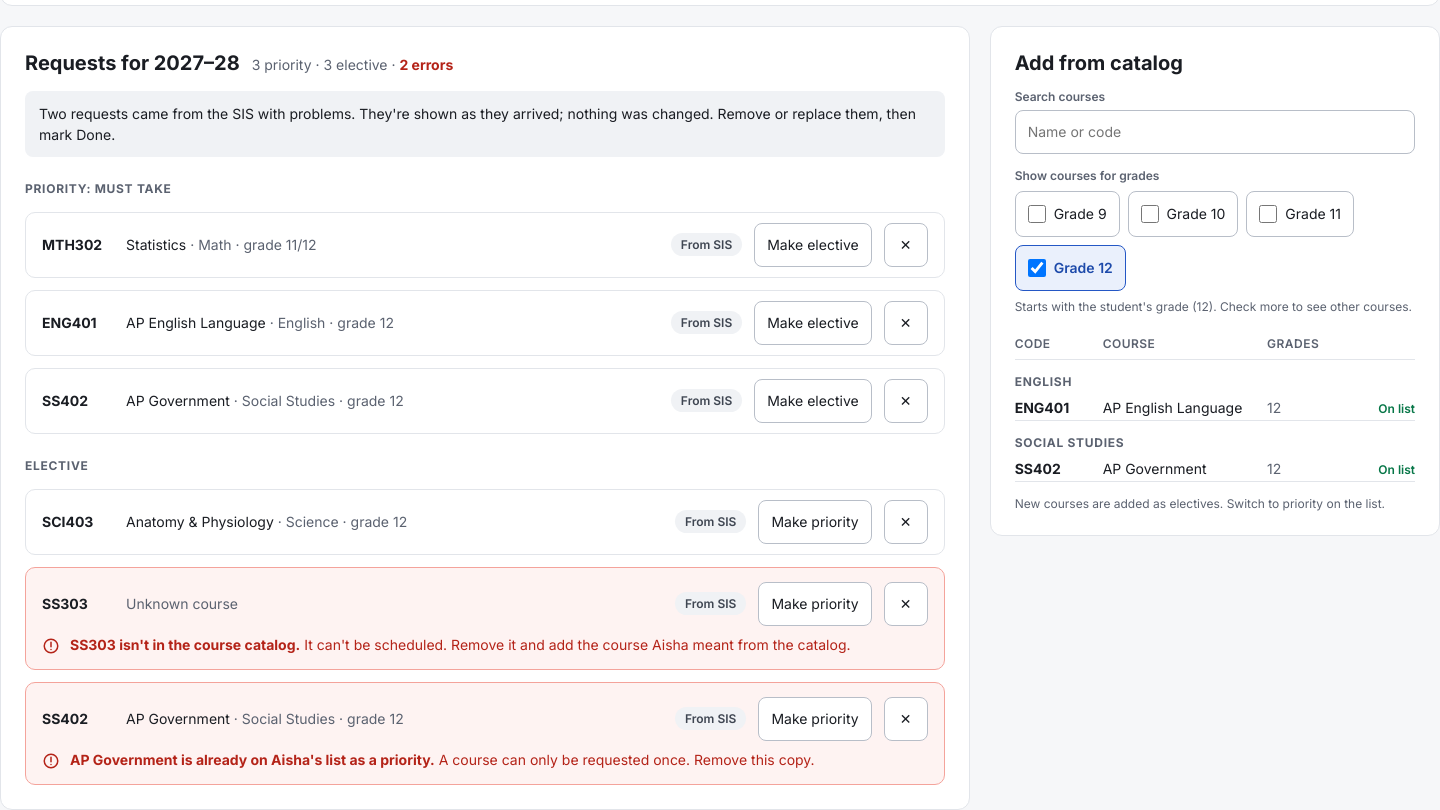
it: a failed edit shows the server's message and keeps the page
The image size is (1440, 810).
(page scrolled)
Step 1. Click the button named "Remove SS303" → (906, 604), box [884, 582, 928, 626]
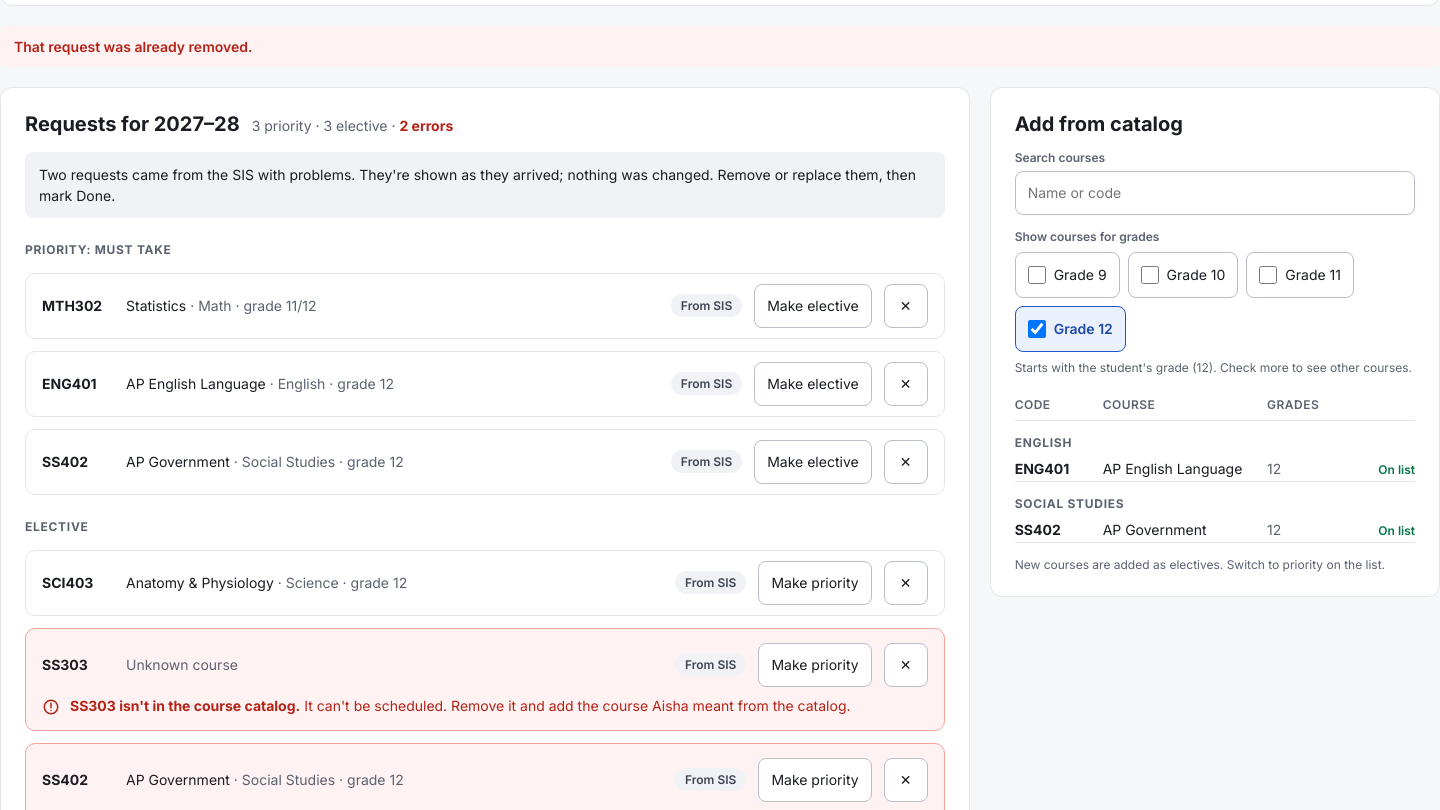
Result: the message reads "That request was already removed." at [14, 38, 252, 55]
